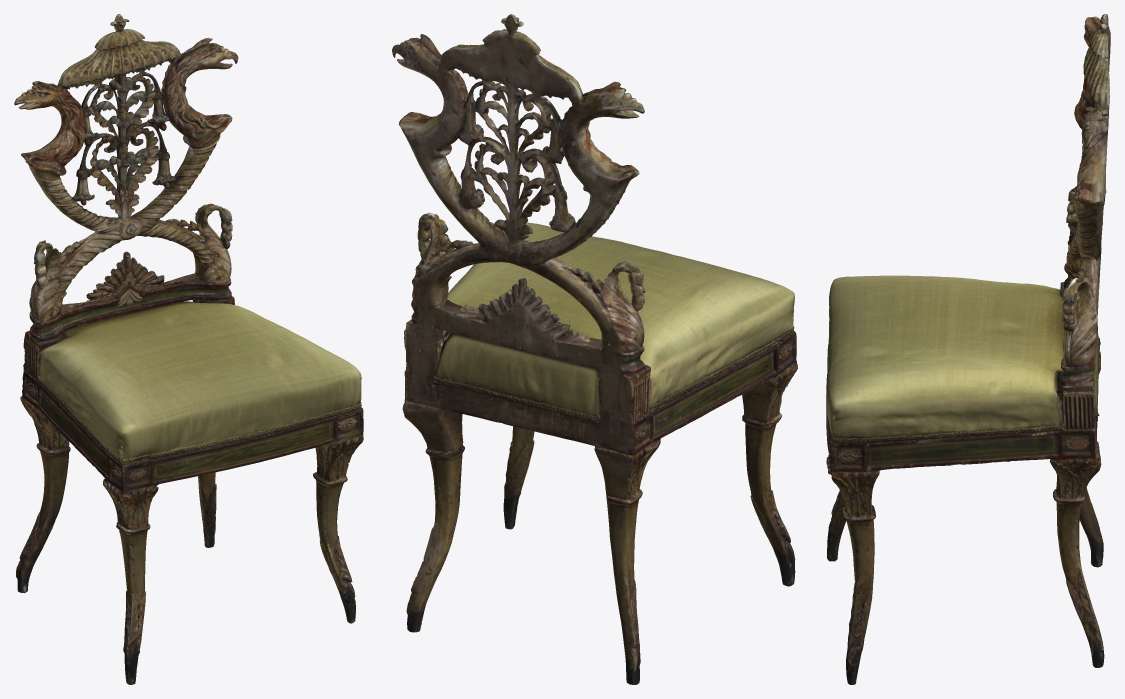
The model's file is chairs-side-chair-9c7f1f71.glb.
3 views of the same model, side by side, from view 1: azimuth 30°, elevation 25°; view 2: azimuth 150°, elevation 25°; view 3: azimuth 270°, elevation 25° (orthographic). The views are drawn at different scales.
Parts seen in each view (by area): view 1: Object_4, Object_5; view 2: Object_4, Object_5; view 3: Object_4, Object_5.
Boxes of the visible parts, box(x1,y1,x2,y2) form: Object_4: box(14, 15, 363, 684); Object_5: box(16, 14, 363, 672); Object_4: box(392, 15, 797, 684); Object_5: box(400, 14, 797, 664); Object_4: box(826, 15, 1110, 684); Object_5: box(826, 14, 1109, 665).
Bounding box in the file's own units: 0.6344 × 1.37 × 0.5821.
1 material, 1 textured.
